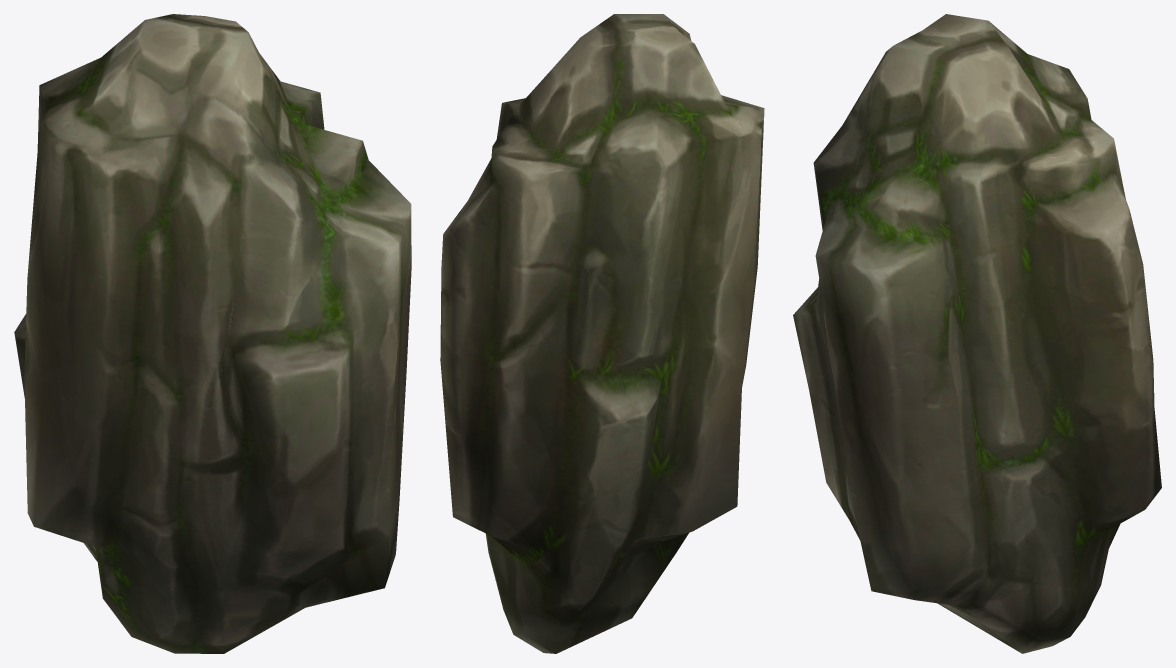
Rendered from RockFormation_4_2 (28).fbx.
3 views of the same model, side by side, from view 1: azimuth 30°, elevation 25°; view 2: azimuth 150°, elevation 25°; view 3: azimuth 270°, elevation 25° (orthographic). The views are drawn at different scales.
Visible parts, largest first — view 1: RockFormation_4_2 (28); view 2: RockFormation_4_2 (28); view 3: RockFormation_4_2 (28).
Boxes of the visible parts, x1,y1,x2,y2 form: RockFormation_4_2 (28): [14, 14, 411, 653]; RockFormation_4_2 (28): [440, 14, 764, 653]; RockFormation_4_2 (28): [793, 14, 1161, 653].
Bounding box in the file's own units: 242 × 484 × 273.
